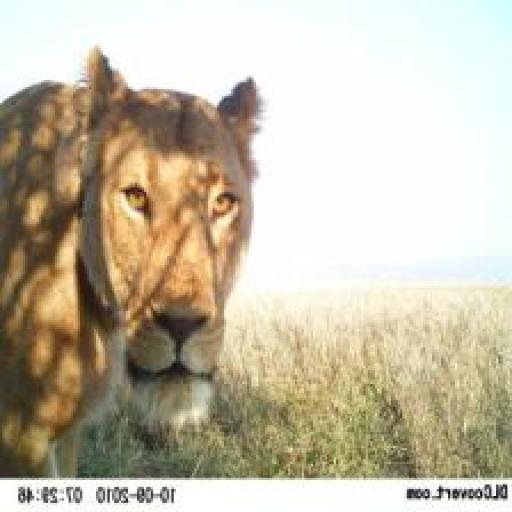lion: (2, 30, 318, 492)
